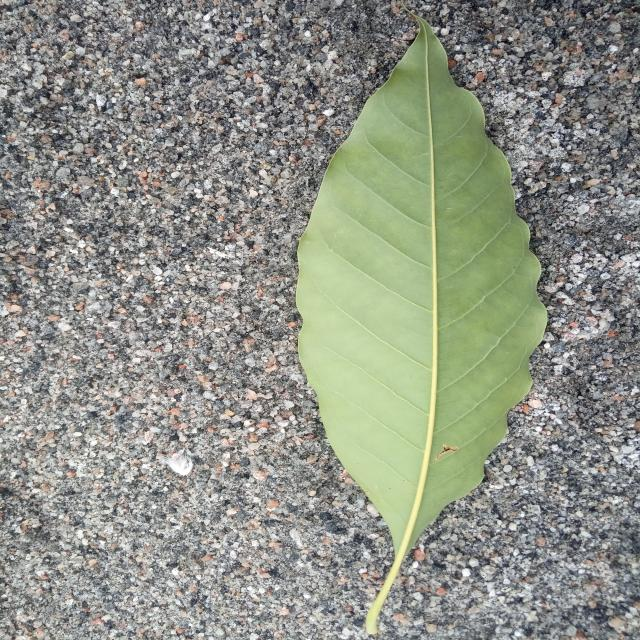coffee: (297, 65, 547, 634)
